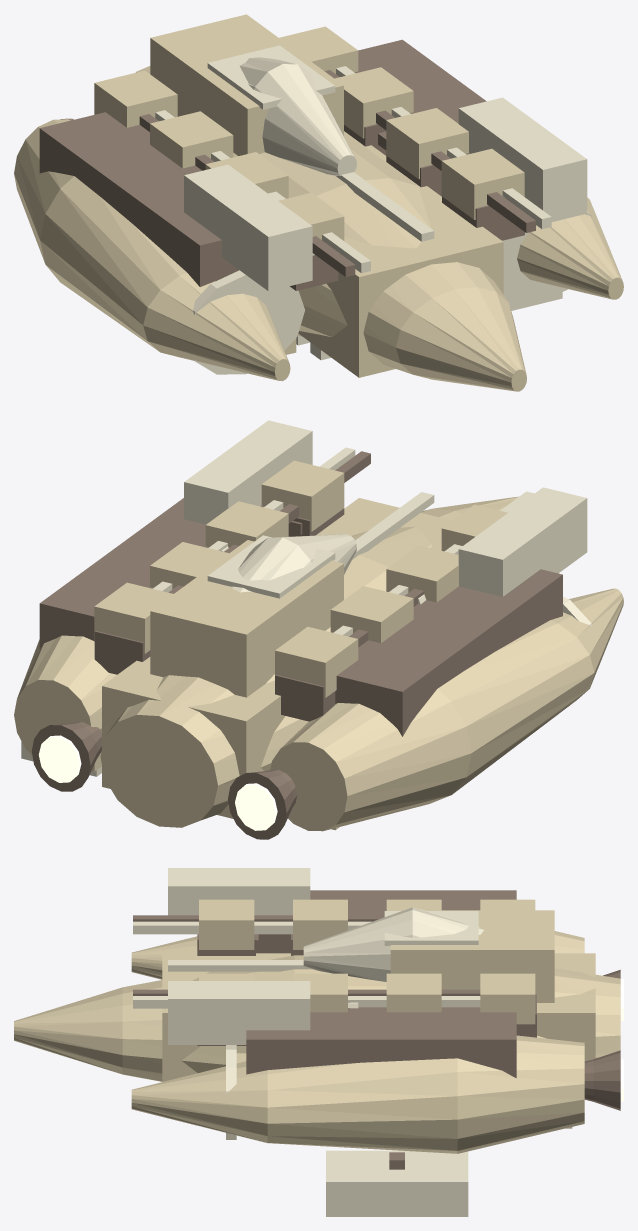
The picture shows the model from 3 angles, top to bottom: view 1: azimuth 30°, elevation 25°; view 2: azimuth 150°, elevation 25°; view 3: azimuth 270°, elevation 25°; orthographic projection. The views are drawn at different scales.
Size of the model in its own units: 15.09 by 8.03 by 20.83.
